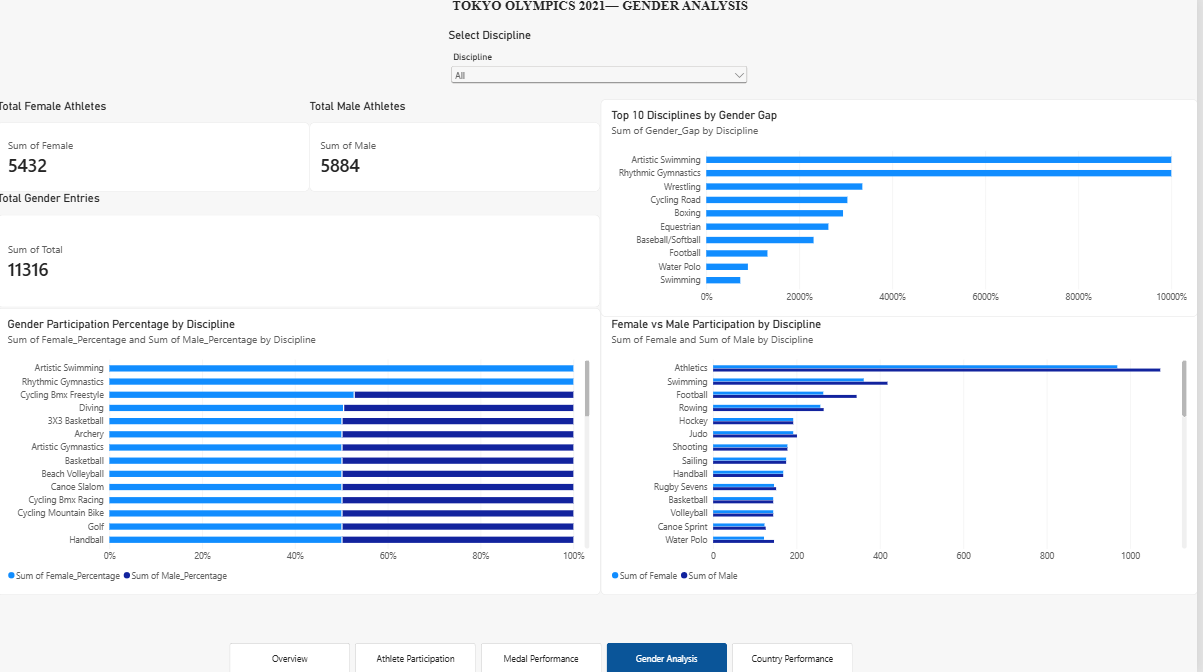

The dashboard page shown, as its layout file describes it:
{"tool":"powerbi","page":{"name":"Gender Analysis","canvas":[1920,1080],"ordinal":3},"visuals":[{"type":"textbox","box":[10.3,0,1910.1,47.3],"z":0},{"type":"cardVisual","title":"Total Female Athletes","fields":{"Data":["Sum(entries_gender_cleaned.Female)"]},"box":[0,162.6,500.2,148.2],"z":1},{"type":"cardVisual","title":"Total Male Athletes","fields":{"Data":["Sum(entries_gender_cleaned.Male)"]},"box":[500.2,162.6,465.2,148.2],"z":2},{"type":"cardVisual","title":"Total Gender Entries","fields":{"Data":["Sum(entries_gender_cleaned.Total)"]},"box":[0,310.8,965.4,185.2],"z":3},{"type":"clusteredBarChart","title":"Female vs Male Participation by Discipline","fields":{"Category":["entries_gender_cleaned.Discipline"],"Y":["Sum(entries_gender_cleaned.Female)","Sum(entries_gender_cleaned.Male)"]},"box":[965.4,496.1,955.1,459],"z":4},{"type":"hundredPercentStackedBarChart","title":"Gender Participation Percentage by Discipline","fields":{"Category":["entries_gender_cleaned.Discipline"],"Y":["Sum(entries_gender_cleaned.Female_Percentage)","Sum(entries_gender_cleaned.Male_Percentage)"]},"box":[0,496.1,965.4,459],"z":5},{"type":"clusteredBarChart","title":"Top 10 Disciplines by Gender Gap","fields":{"Category":["entries_gender_cleaned.Discipline"],"Y":["Sum(entries_gender_cleaned.Gender_Gap)"]},"box":[965.4,162.6,955.1,347.9],"z":6},{"type":"slicer","title":"Select Discipline","fields":{"Values":["entries_gender_cleaned.Discipline"]},"box":[722.5,47.3,483.7,115.3],"z":7},{"type":"pageNavigator","box":[372.6,1031.2,1000,50],"z":8}]}

Visuals, with their boxes in screenshot pixels (x1, y1, x2, y2), scaled from the page's 1920x1080 canvas onto the 1203x672 screenshot:
textbox: detection(6, 0, 1202, 29)
"Total Female Athletes" cardVisual: detection(0, 101, 313, 193)
"Total Male Athletes" cardVisual: detection(313, 101, 605, 193)
"Total Gender Entries" cardVisual: detection(0, 193, 605, 309)
"Female vs Male Participation by Discipline" clusteredBarChart: detection(605, 309, 1202, 594)
"Gender Participation Percentage by Discipline" hundredPercentStackedBarChart: detection(0, 309, 605, 594)
"Top 10 Disciplines by Gender Gap" clusteredBarChart: detection(605, 101, 1202, 318)
"Select Discipline" slicer: detection(453, 29, 756, 101)
pageNavigator: detection(233, 642, 860, 671)
